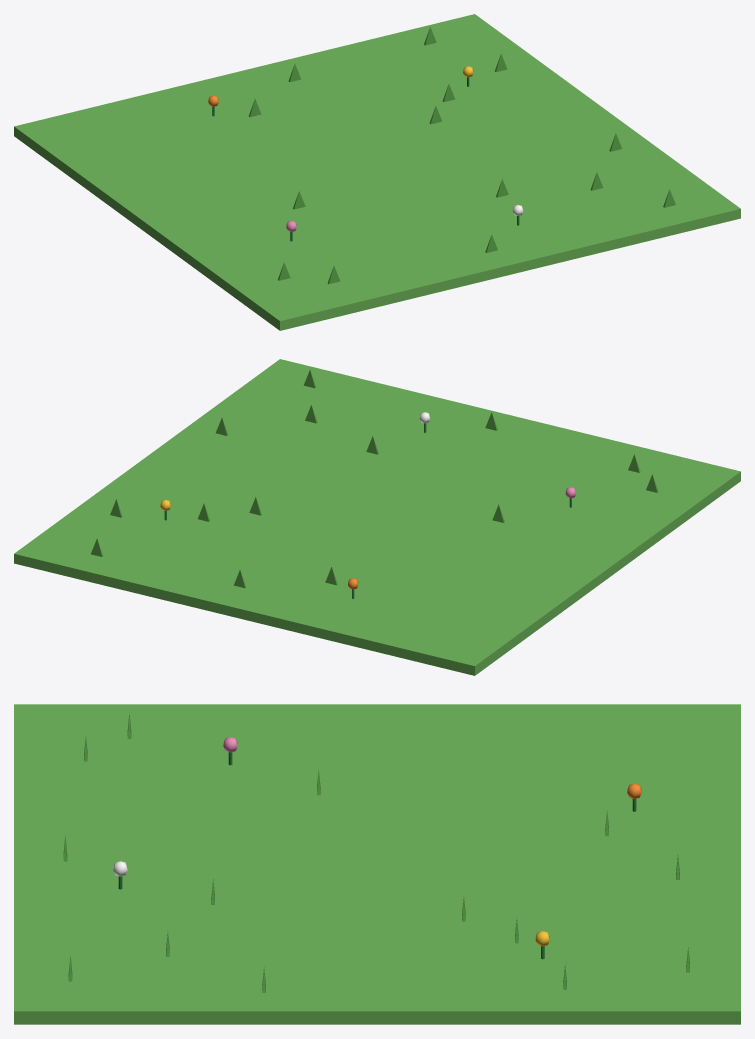
The model's file is grass_tile.glb.
3 renders of one model, top to bottom at view 1: azimuth 30°, elevation 25°; view 2: azimuth 150°, elevation 25°; view 3: azimuth 270°, elevation 25°, orthographic. The views are drawn at different scales.
Visible parts, largest first — view 1: root; view 2: root; view 3: root.
Boxes of the visible parts, box(x1,y1,x2,y2) form: root: box(14, 14, 740, 330); root: box(14, 359, 740, 675); root: box(14, 704, 740, 1024).
Bounding box in the file's own units: 3.96 × 0.245 × 3.96.
